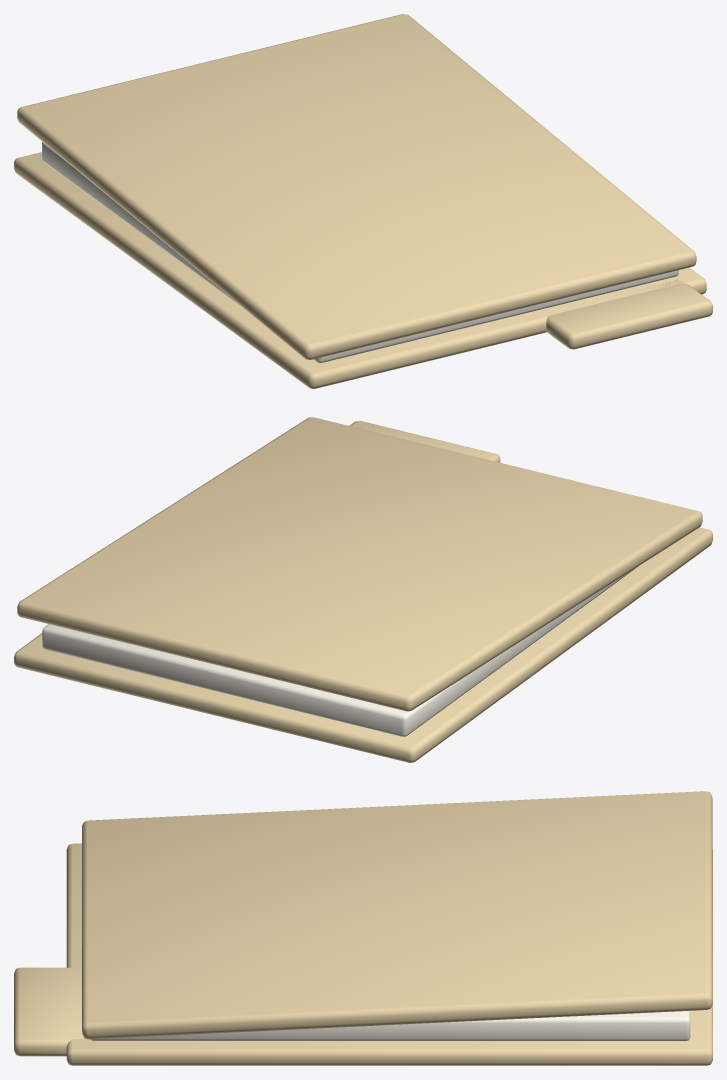
File: Doc_Folder.fbx
3 views of the same model, one above another, from view 1: azimuth 30°, elevation 25°; view 2: azimuth 150°, elevation 25°; view 3: azimuth 270°, elevation 25° (orthographic). The views are drawn at different scales.
Visible parts, largest first — view 1: Folder_FrontCover, Folder_BackCover, Folder_IndexTab, Folder_InnerPages; view 2: Folder_FrontCover, Folder_BackCover, Folder_InnerPages, Folder_IndexTab; view 3: Folder_FrontCover, Folder_BackCover, Folder_InnerPages, Folder_IndexTab.
Boxes of the visible parts, x1,y1,x2,y2 form: Folder_FrontCover: (17,14,696,359); Folder_BackCover: (14,152,706,388); Folder_IndexTab: (546,279,712,349); Folder_InnerPages: (42,142,678,362); Folder_FrontCover: (17,417,702,711); Folder_BackCover: (14,527,712,762); Folder_InnerPages: (42,566,638,736); Folder_IndexTab: (349,421,500,462); Folder_FrontCover: (82,791,712,1039); Folder_BackCover: (66,843,712,1065); Folder_InnerPages: (90,1010,690,1040); Folder_IndexTab: (14,967,82,1056).
Bounding box in the file's own units: 6.6 × 1.05 × 9.3.
